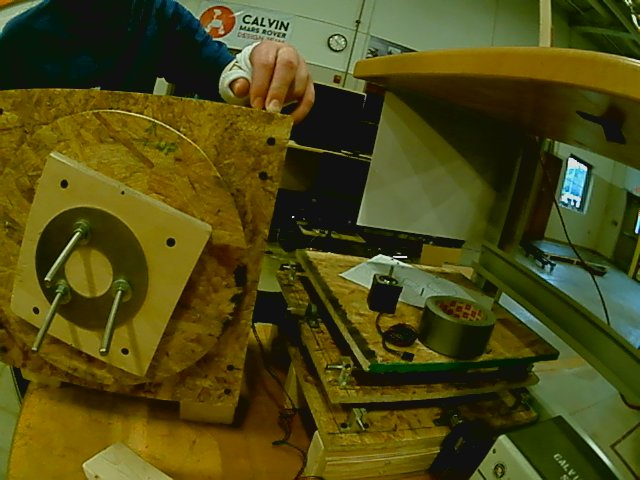bolt: (70, 219, 94, 247), (111, 277, 134, 304), (53, 280, 72, 308)
